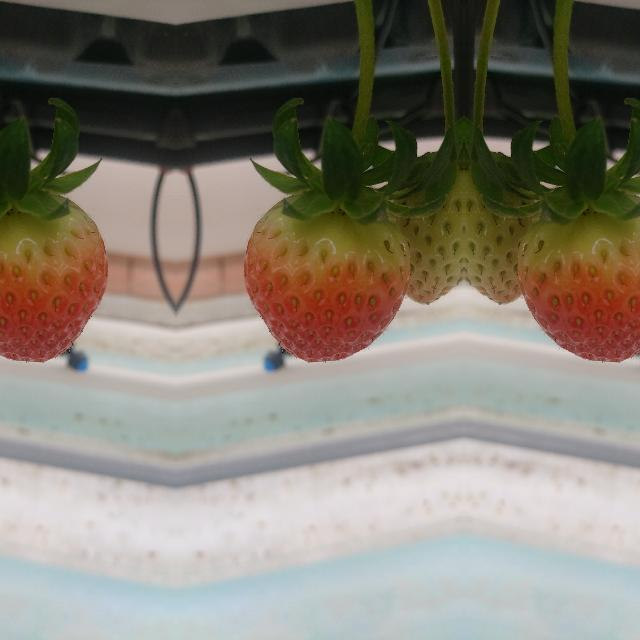Health_50: (390, 137, 462, 303), (464, 137, 536, 303)
Health_75: (243, 194, 409, 362), (517, 194, 640, 362), (0, 194, 107, 362)
